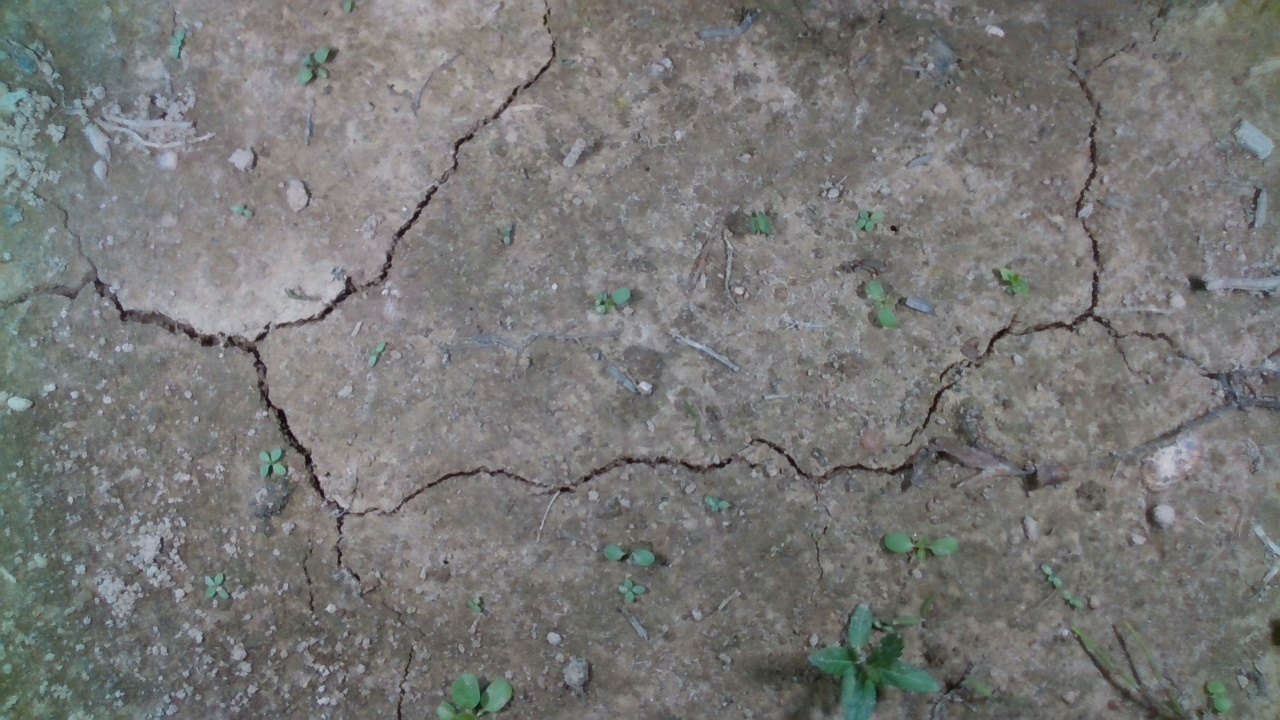weed: (856, 275, 925, 326), (600, 536, 681, 573), (726, 203, 790, 242), (879, 531, 960, 561), (248, 450, 300, 495), (992, 266, 1045, 303), (195, 568, 238, 606), (299, 46, 336, 86), (847, 203, 895, 232), (606, 578, 661, 602), (584, 288, 648, 308), (1033, 558, 1070, 588), (220, 196, 258, 221), (699, 489, 733, 509)
